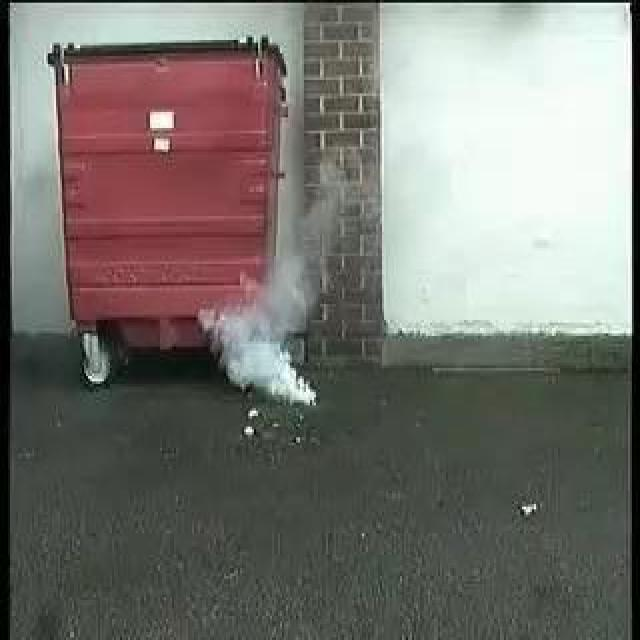Smoke: (201, 266, 319, 410)
